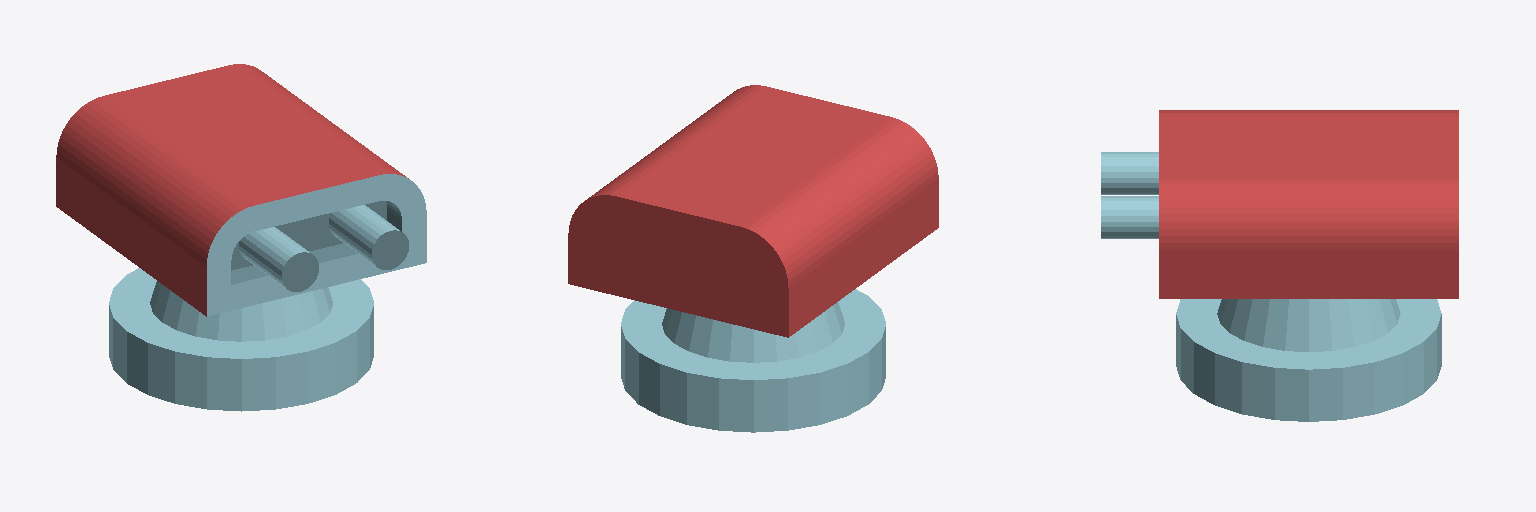
3 views of the same model, side by side, from view 1: azimuth 30°, elevation 25°; view 2: azimuth 150°, elevation 25°; view 3: azimuth 270°, elevation 25° (orthographic).
Visible parts, largest first — view 1: weapon_blaster; view 2: weapon_blaster; view 3: weapon_blaster.
Boxes of the visible parts, x1,y1,x2,y2 form: weapon_blaster: [56, 64, 426, 411]; weapon_blaster: [568, 85, 938, 432]; weapon_blaster: [1101, 110, 1458, 421].
Size of the model in its own units: 0.7417 by 0.6774 by 1.